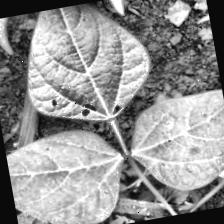ALS: (16, 0, 153, 130), (123, 85, 224, 197), (0, 15, 24, 53)
